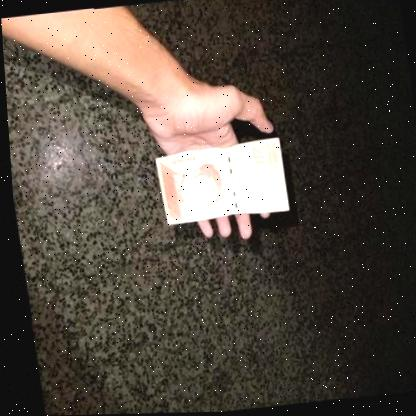twenty-front-vef: (151, 138, 288, 226)
